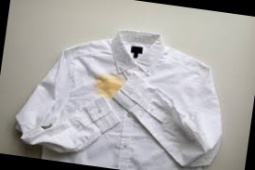coffee: (97, 74, 121, 95)
